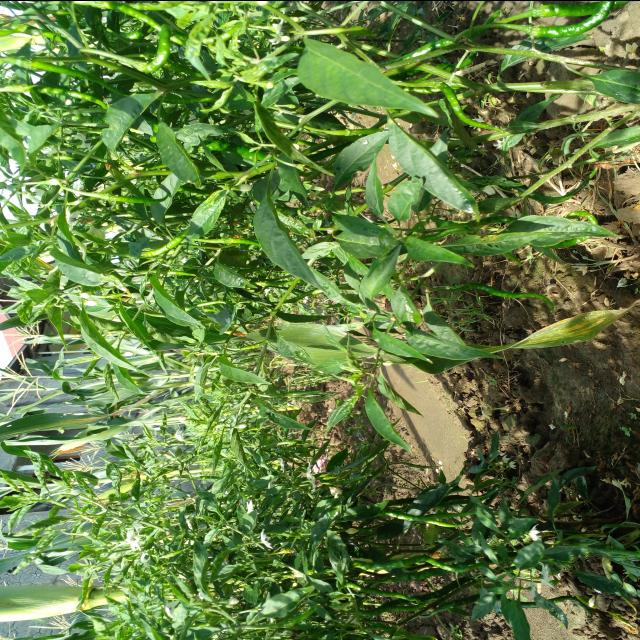sehat: (268, 37, 440, 115), (404, 326, 498, 362), (405, 232, 480, 272), (258, 572, 324, 616), (514, 537, 546, 573)
